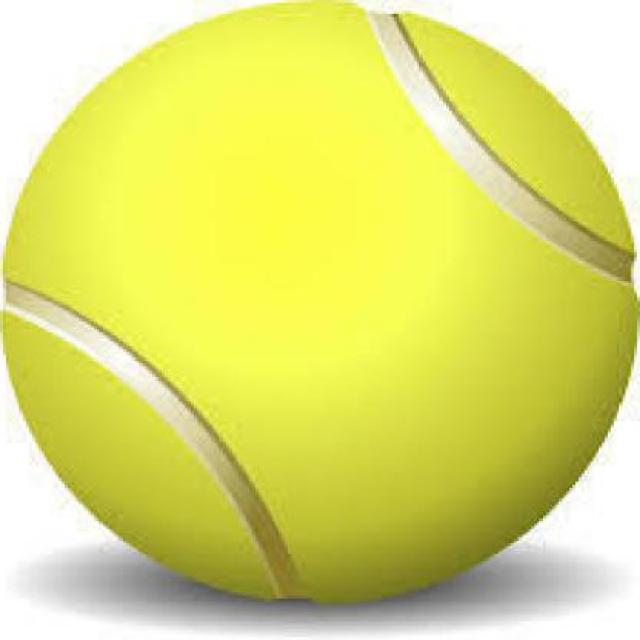ball: (0, 1, 639, 618)
